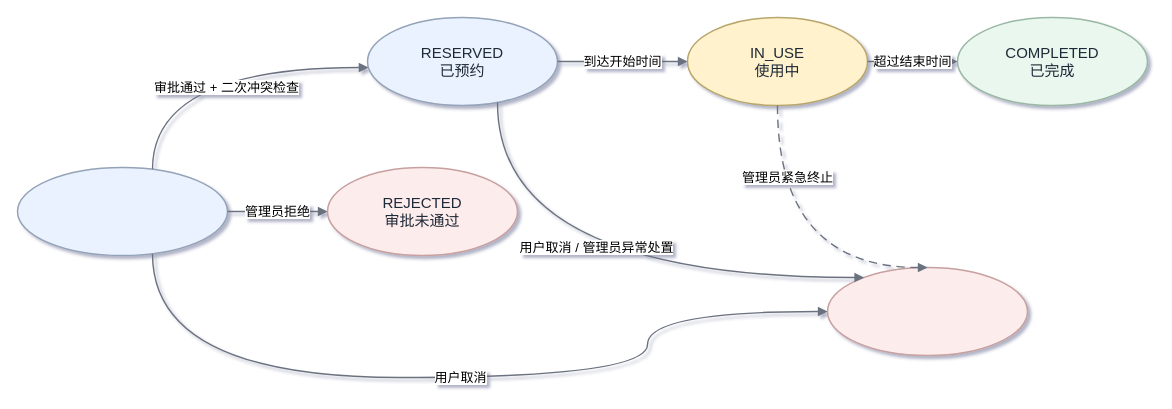
Image size: 1172x409. Some labels were removed from this diagram. The box of each missing label's shape, as (x1, y1, x2, y2) in pixels:
CANCELLED 已取消: (826, 266, 1028, 356)
PENDING_APPROVAL 待审批: (16, 166, 228, 256)
